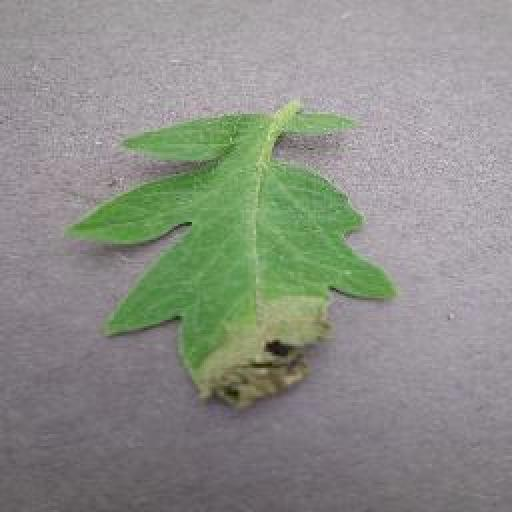disease_tomato: (69, 112, 395, 410)
